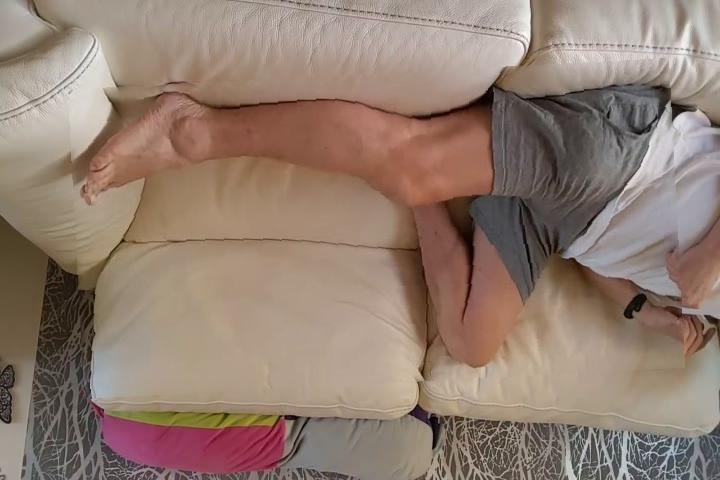lowerbody: (73, 67, 683, 392)
